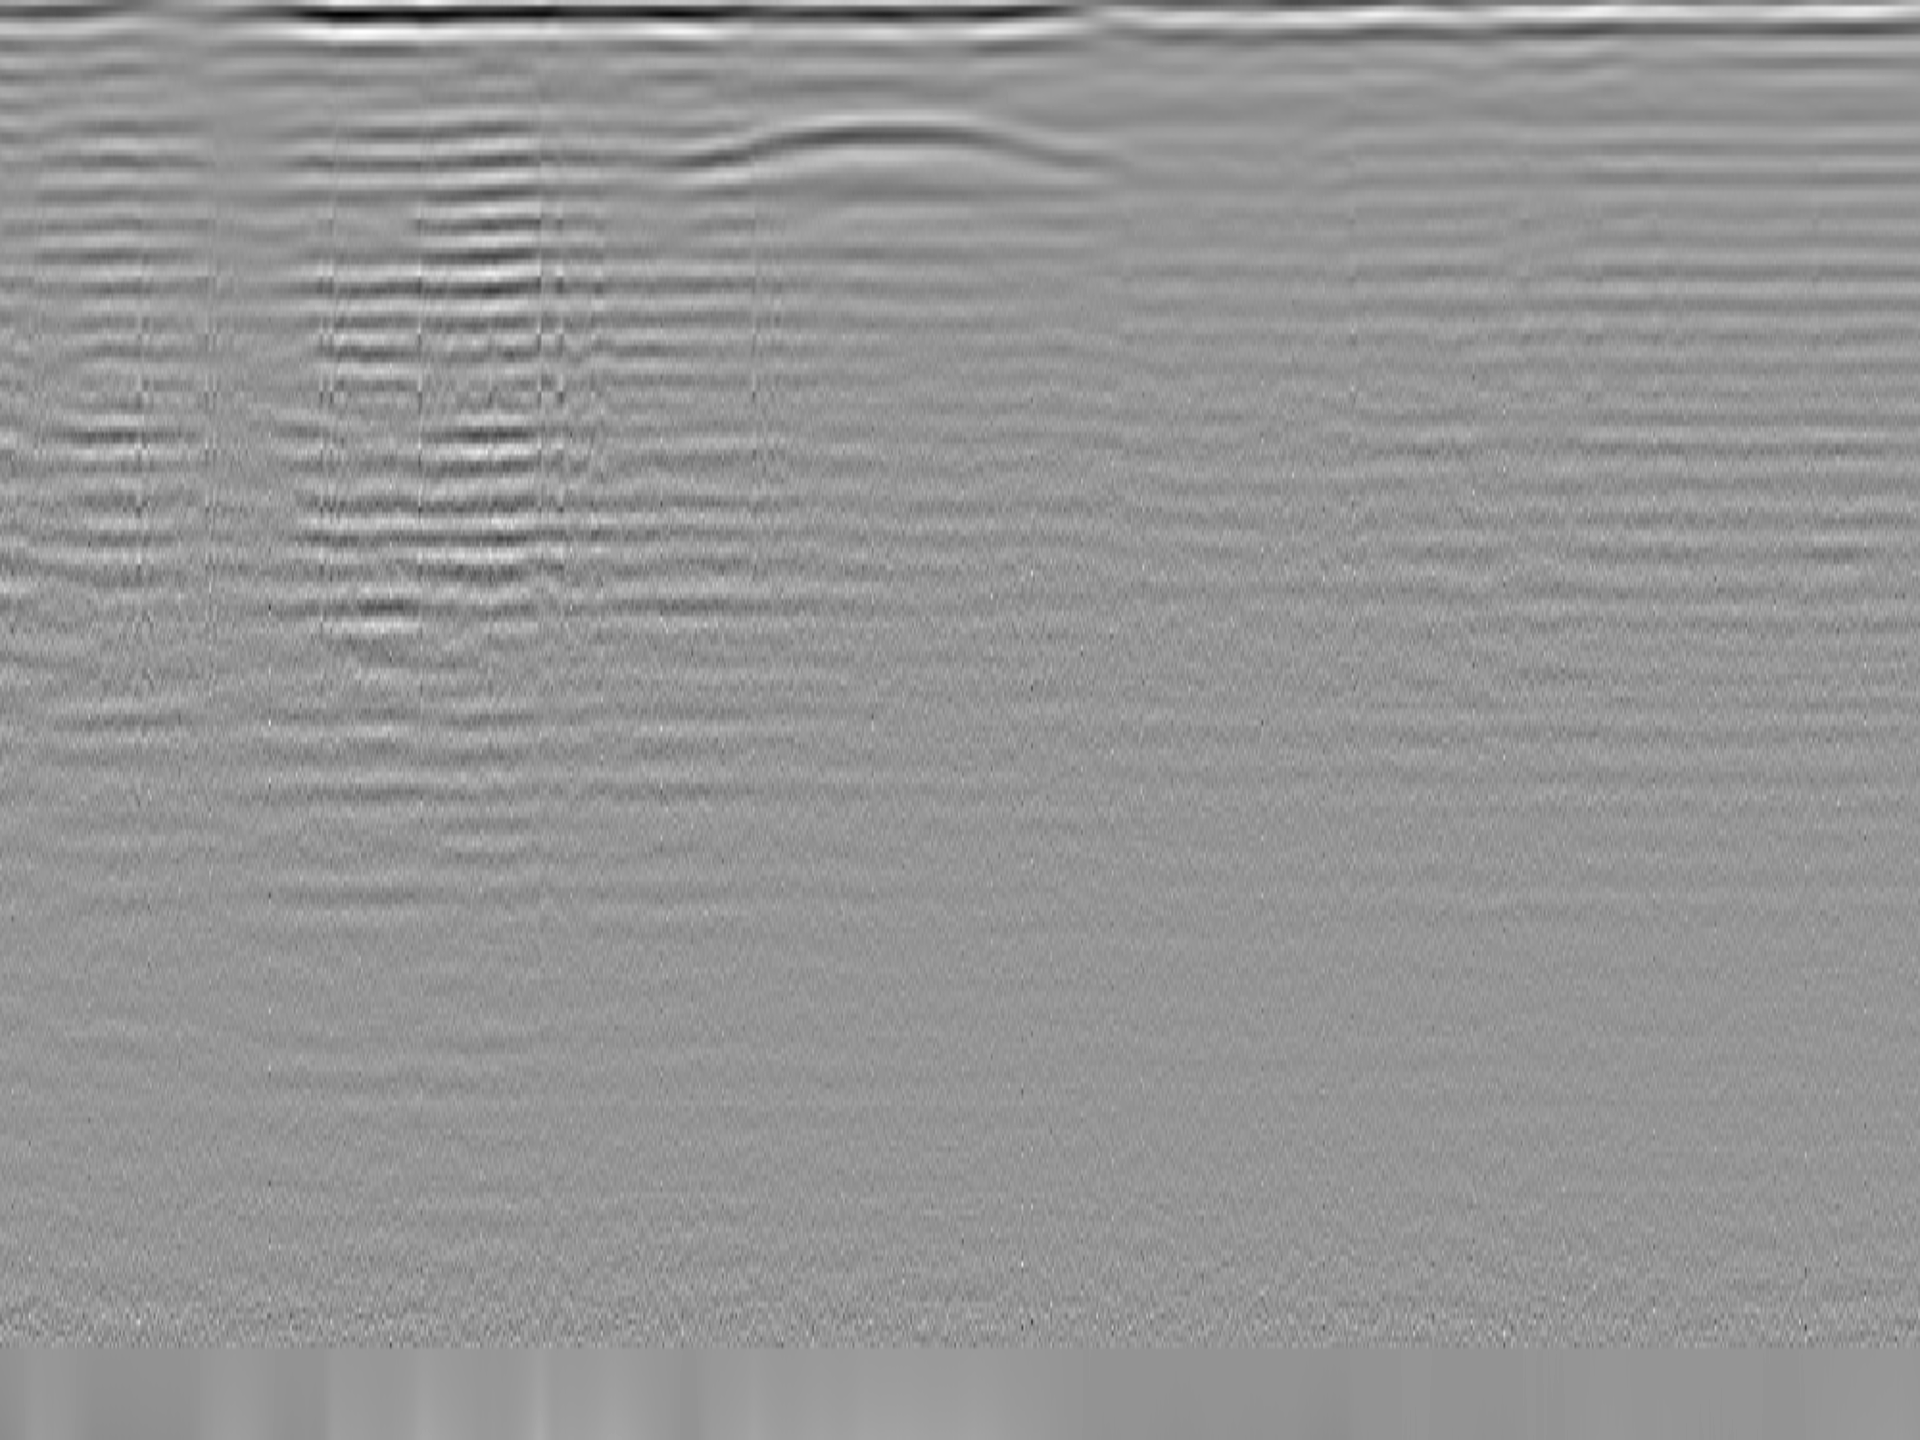Tunnel: (676, 112, 1140, 175)
